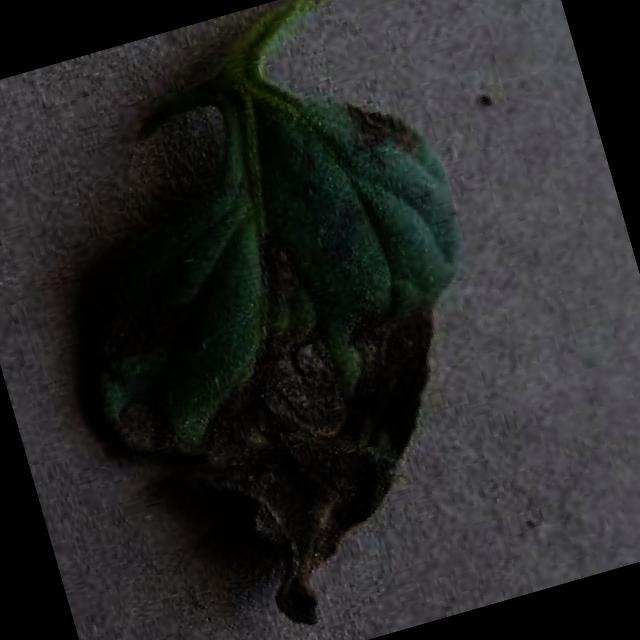Tomato Early blight leaf: (32, 68, 555, 640)
